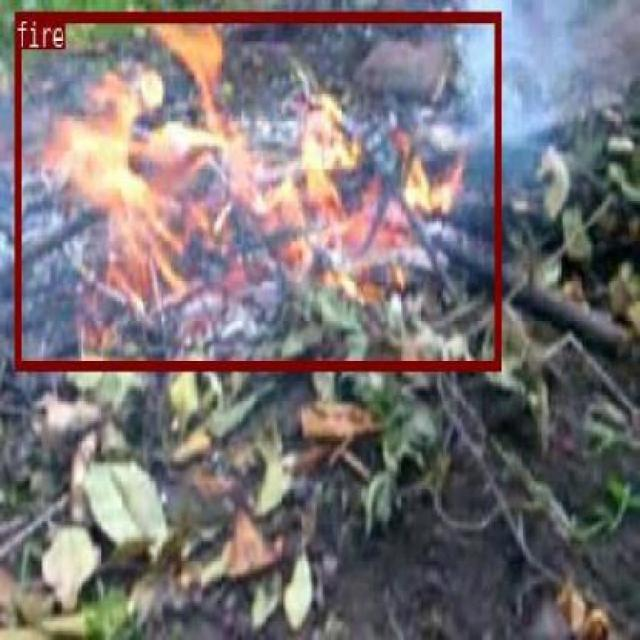Fire: (14, 9, 500, 368)
